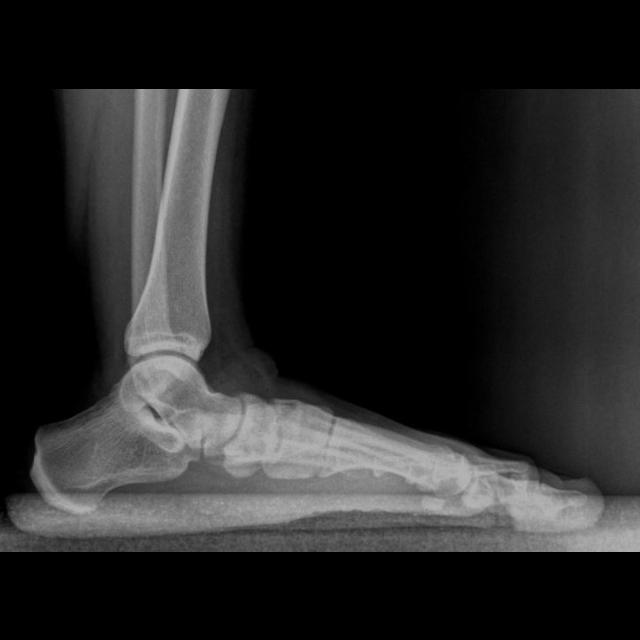a: (27, 388, 204, 518)
b: (218, 391, 281, 479)
c: (316, 416, 473, 513)
